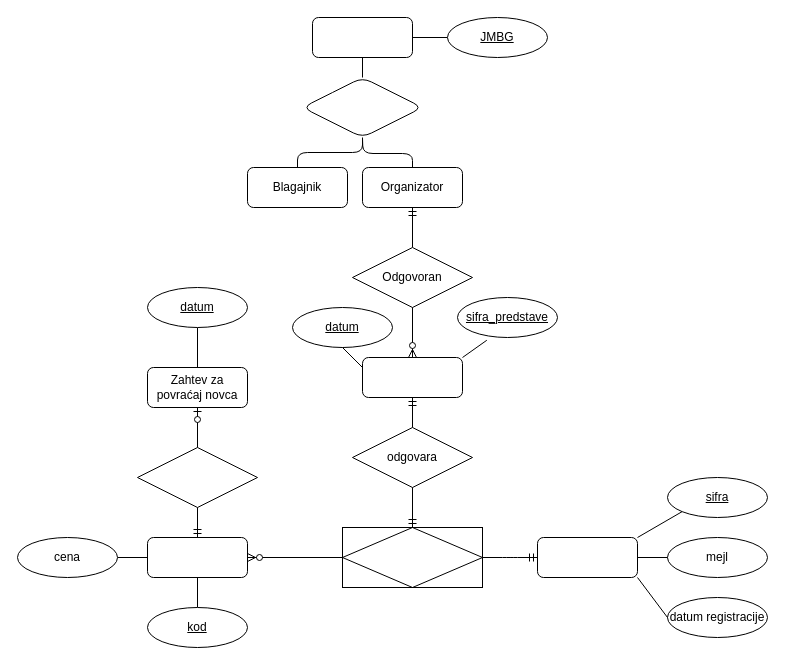
Image size: 785x665. Some labels were removed from this diagram. The centre of each missing label's shape, as x and y in pixels:
IS_A: point (362, 107)
Karta: point (197, 557)
Klijent: point (587, 557)
Poseduje: point (412, 557)
Postoji: point (197, 477)
Repertoar: point (412, 377)
Zaposlen: point (362, 37)
